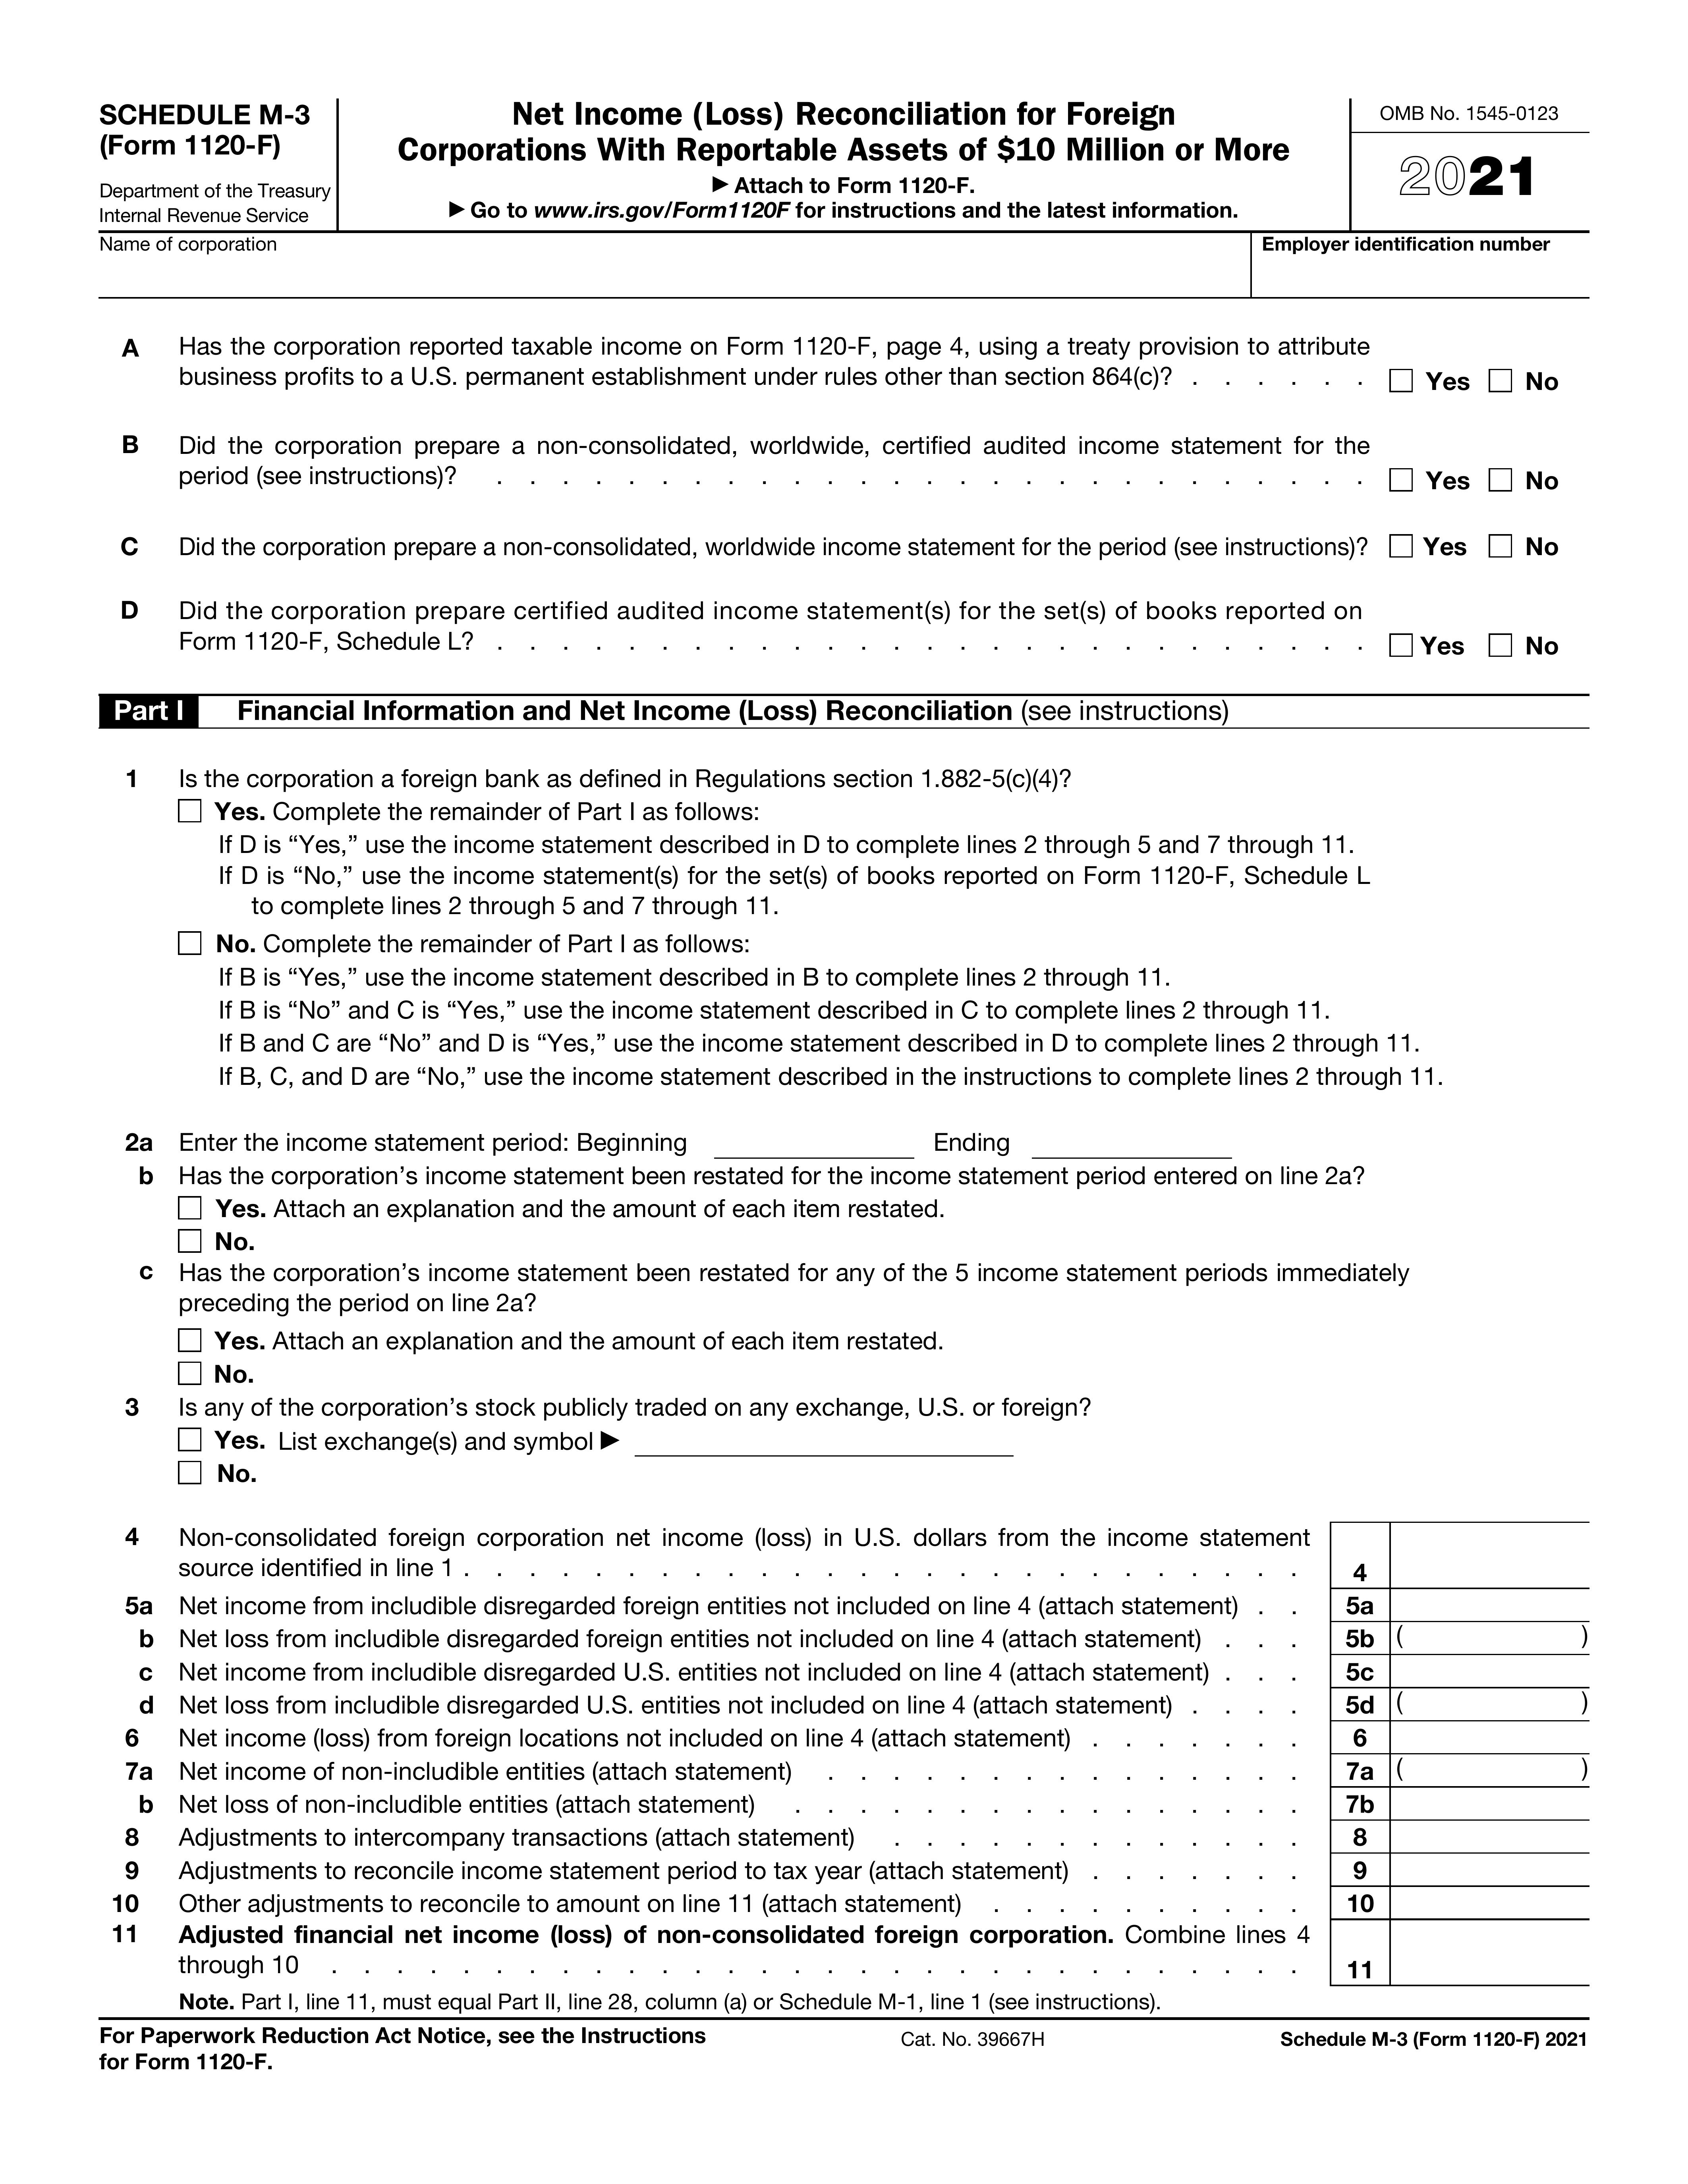form: (85, 80, 1606, 312)
table: (78, 1517, 1610, 2021)
